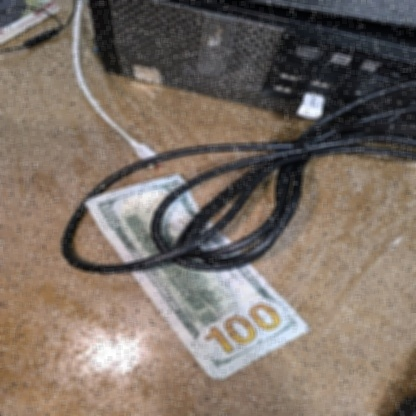one_hundred-back: (80, 172, 317, 383)
